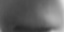RightEyeFatigue: (7, 14, 55, 32)
